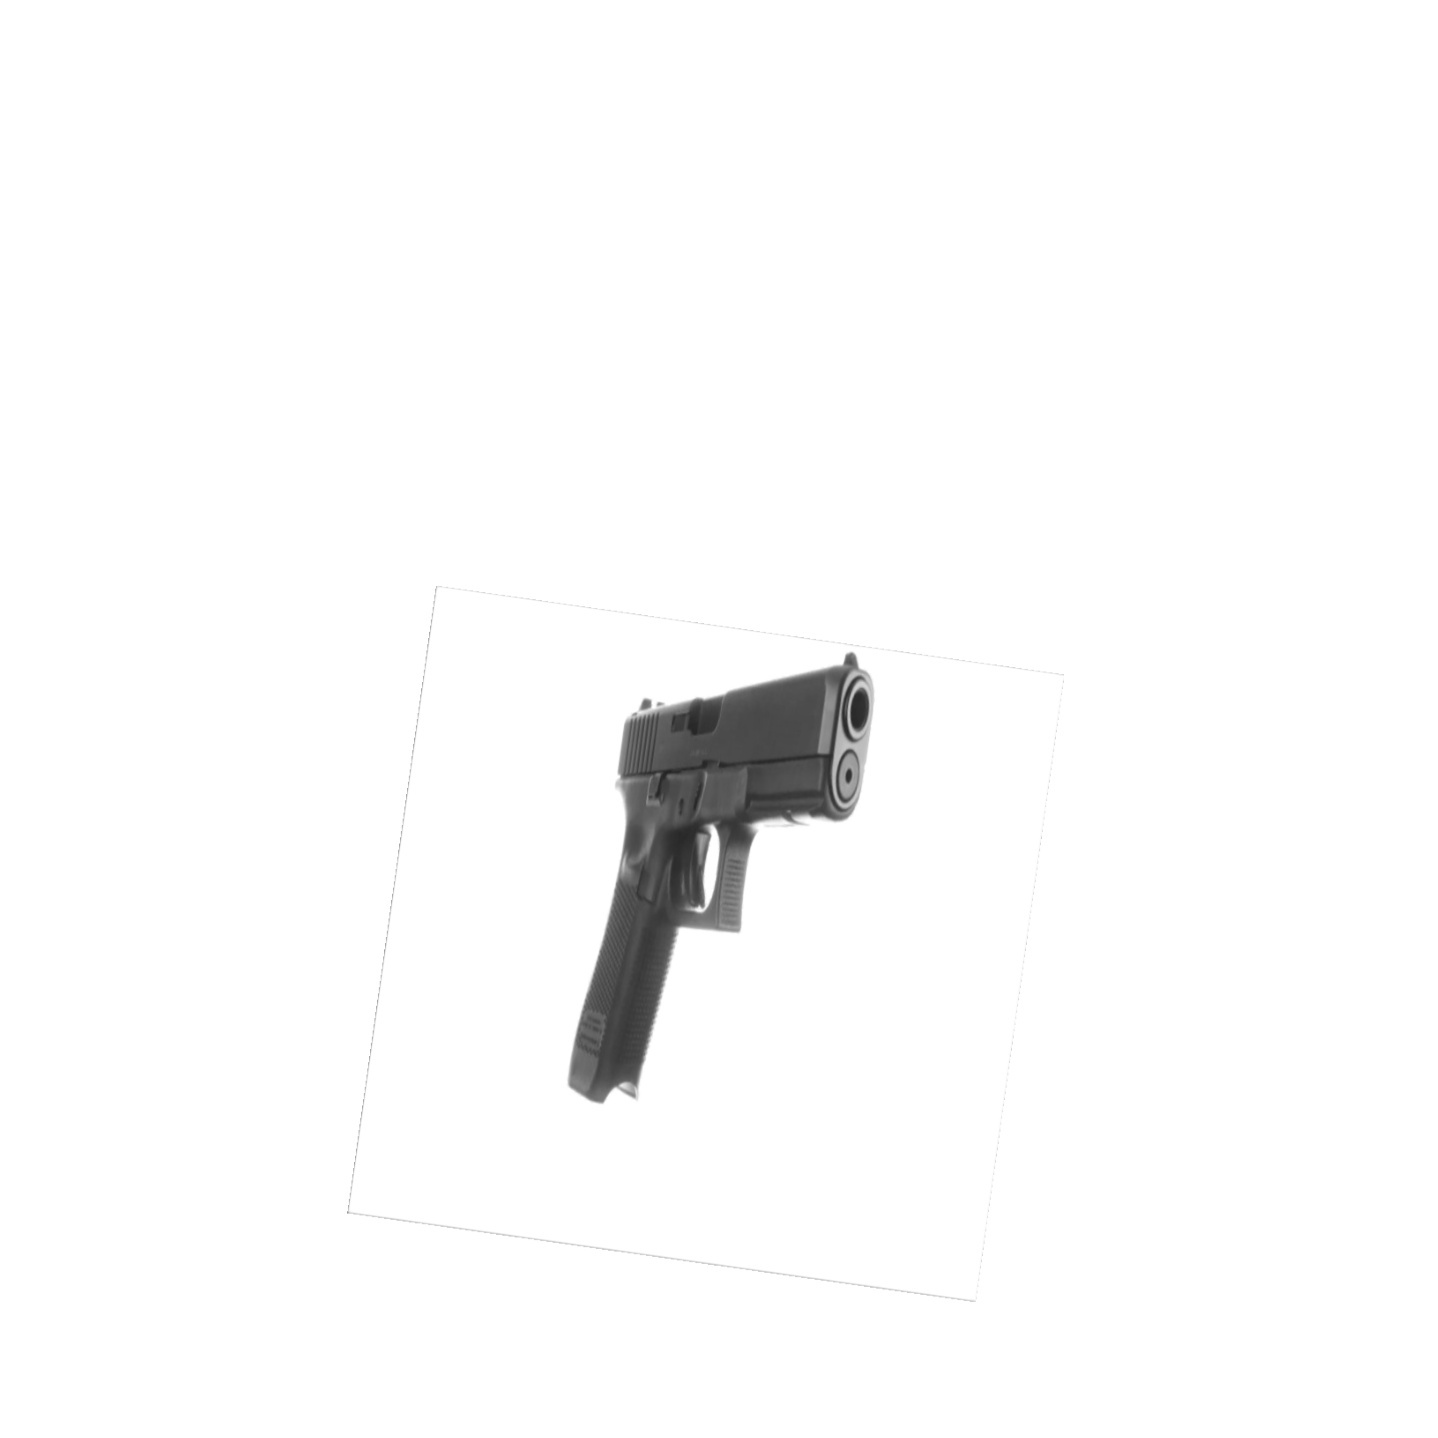gun: (568, 653, 872, 1101)
